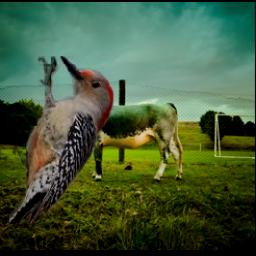Woodpecker: (9, 57, 113, 225)
